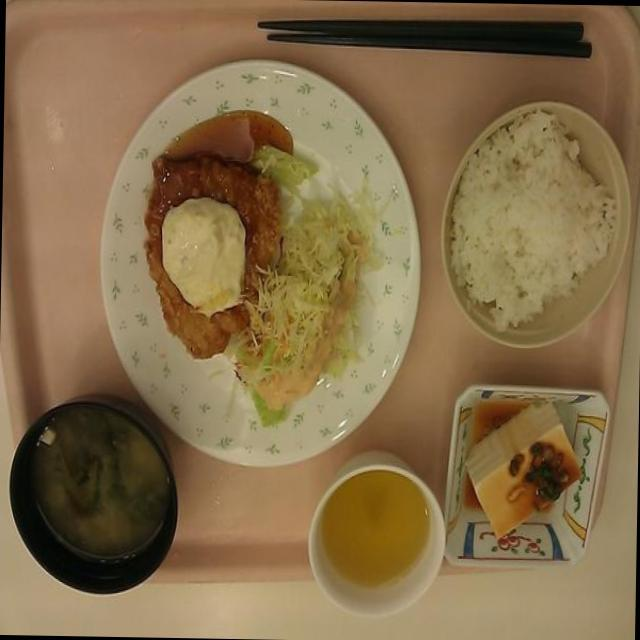Rice: (446, 117, 614, 335)
